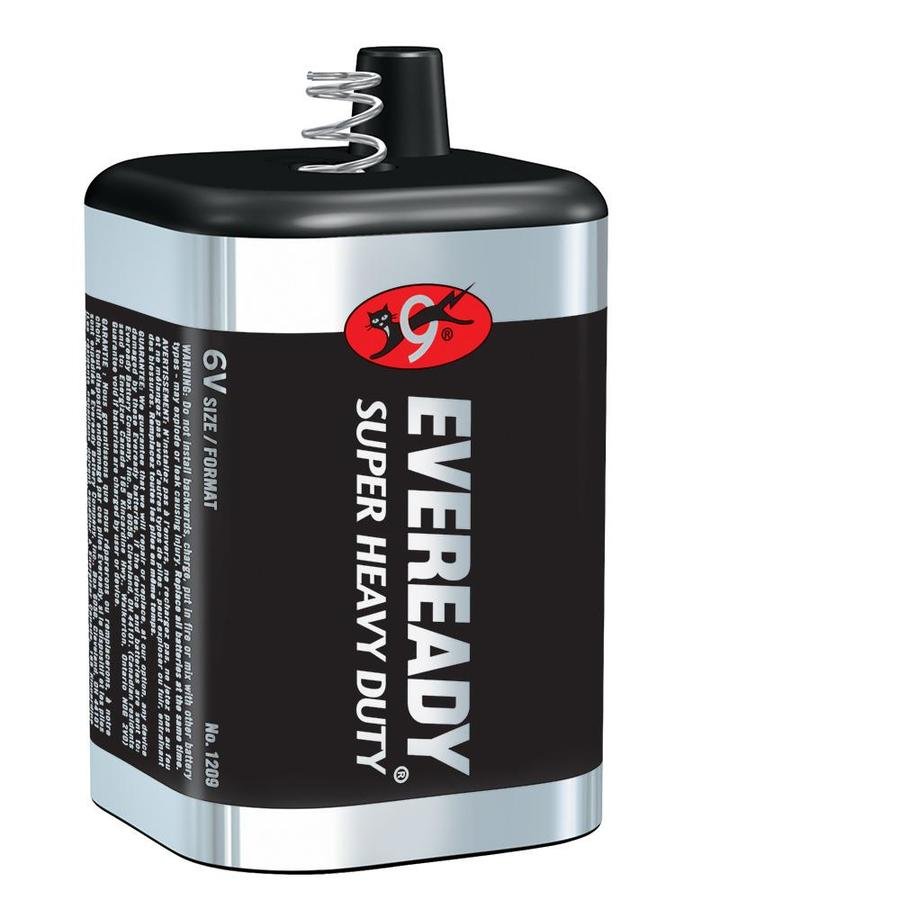6V: (51, 41, 621, 881)
